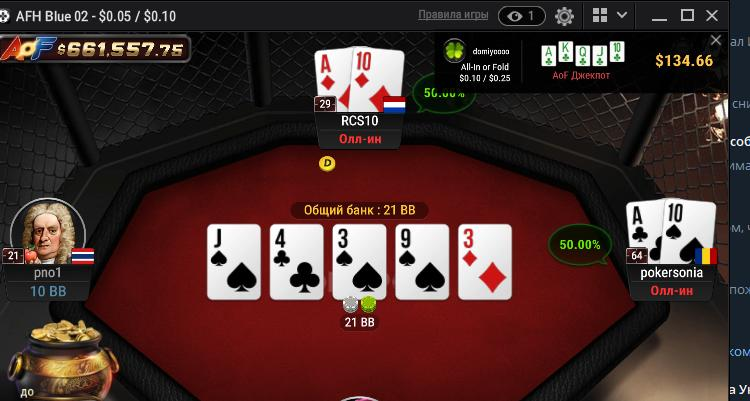10d: (351, 47, 402, 110)
10s: (664, 198, 714, 263)
3d: (459, 224, 511, 300)
3s: (333, 225, 386, 300)
4c: (270, 224, 323, 299)
9s: (395, 223, 449, 299)
Ac: (627, 201, 663, 262)
Ad: (314, 49, 352, 113)
Js: (208, 225, 261, 298)
